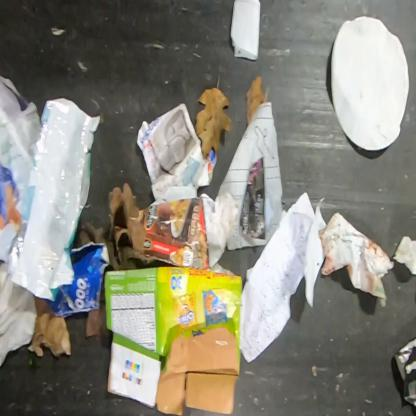cardboard: (104, 262, 243, 415), (108, 182, 237, 271), (30, 298, 70, 358)
soft_plastic: (4, 98, 101, 304)
